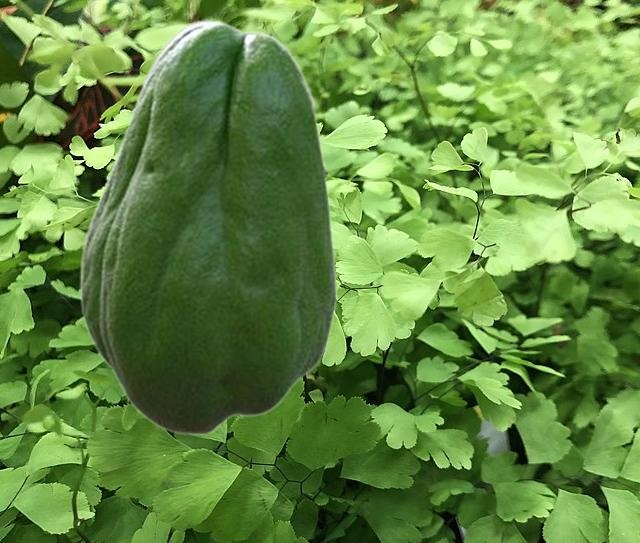sayote: (79, 19, 337, 435)
